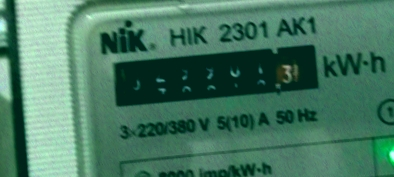0: (225, 53, 241, 79), (125, 69, 143, 91)
1: (250, 52, 265, 76)
2: (150, 64, 167, 84)
3: (278, 61, 293, 84)
9: (200, 57, 216, 80), (175, 60, 189, 83)
screen: (97, 33, 329, 116)
